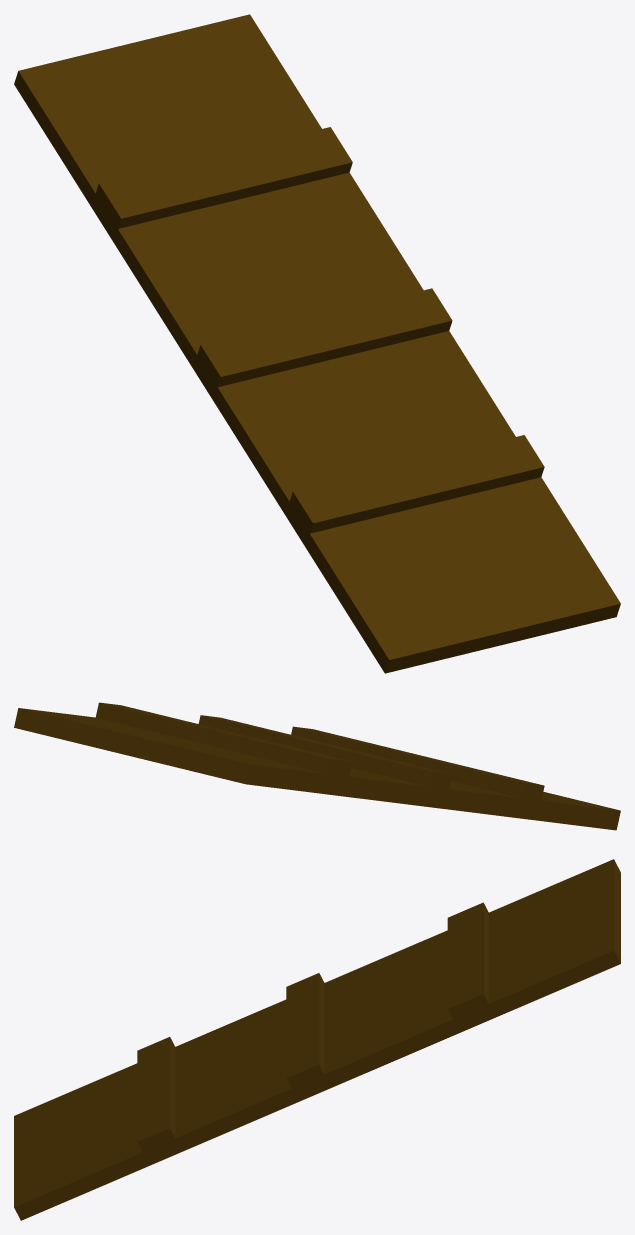
File: stairs2.fbx
3 renders of one model, top to bottom at view 1: azimuth 30°, elevation 25°; view 2: azimuth 150°, elevation 25°; view 3: azimuth 270°, elevation 25°, orthographic. The views are drawn at different scales.
Parts seen in each view (by area): view 1: pCube45; view 2: pCube45; view 3: pCube45.
Boxes of the visible parts, x1,y1,x2,y2 form: pCube45: (14, 14, 620, 673); pCube45: (14, 702, 620, 830); pCube45: (14, 859, 620, 1220).
Size of the model in its own units: 1.73 by 2.39 by 4.87.
